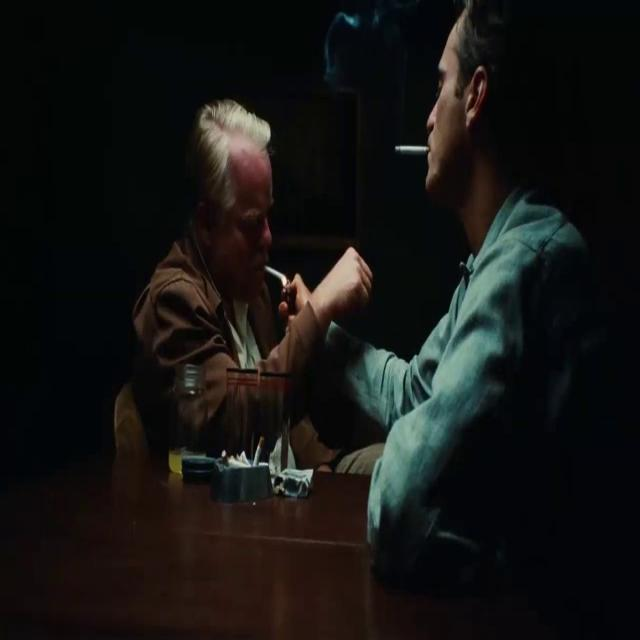Smooking: (391, 135, 428, 165), (263, 264, 292, 288)
